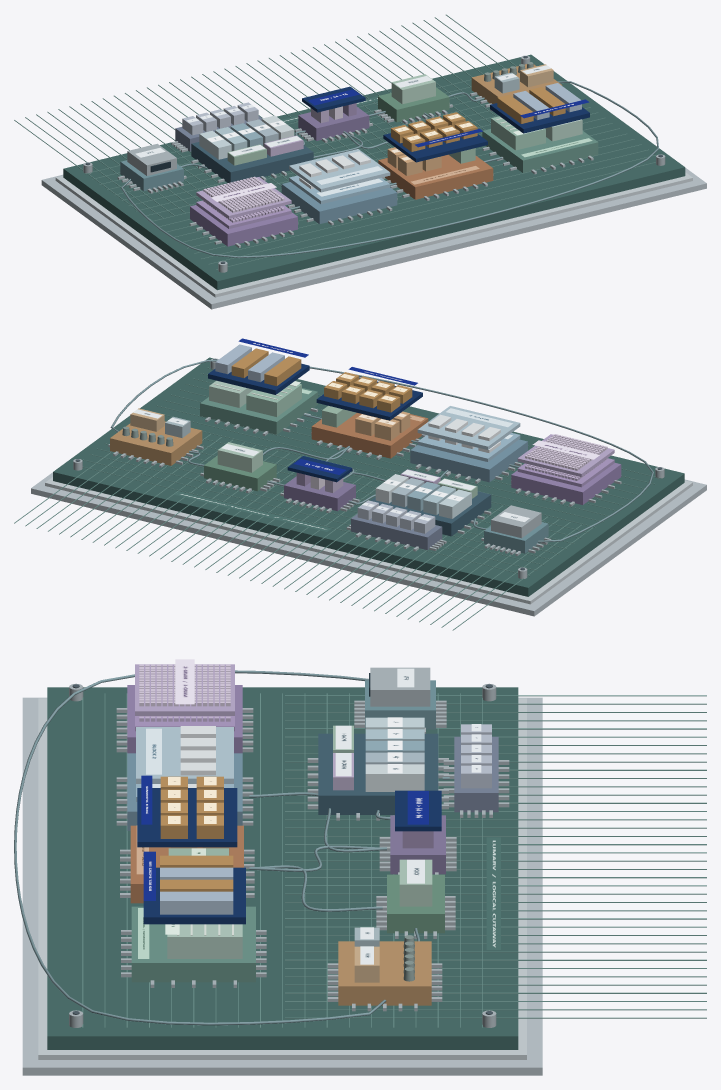
The model's file is LumaRV_逻辑结构.glb.
3 views of the same model, one above another, from view 1: azimuth 30°, elevation 25°; view 2: azimuth 150°, elevation 25°; view 3: azimuth 270°, elevation 25° (orthographic). The views are drawn at different scales.
Parts seen in each view (by area): view 1: LumaRV logical architecture; view 2: LumaRV logical architecture; view 3: LumaRV logical architecture.
Part boxes in pixels (left/top/right/bottom): LumaRV logical architecture: left=14, top=14, right=706, bottom=309; LumaRV logical architecture: left=14, top=338, right=706, bottom=630; LumaRV logical architecture: left=14, top=659, right=706, bottom=1075.
Size of the model in its own units: 19.7 by 2.9 by 15.6.
142 materials, 40 textured.
